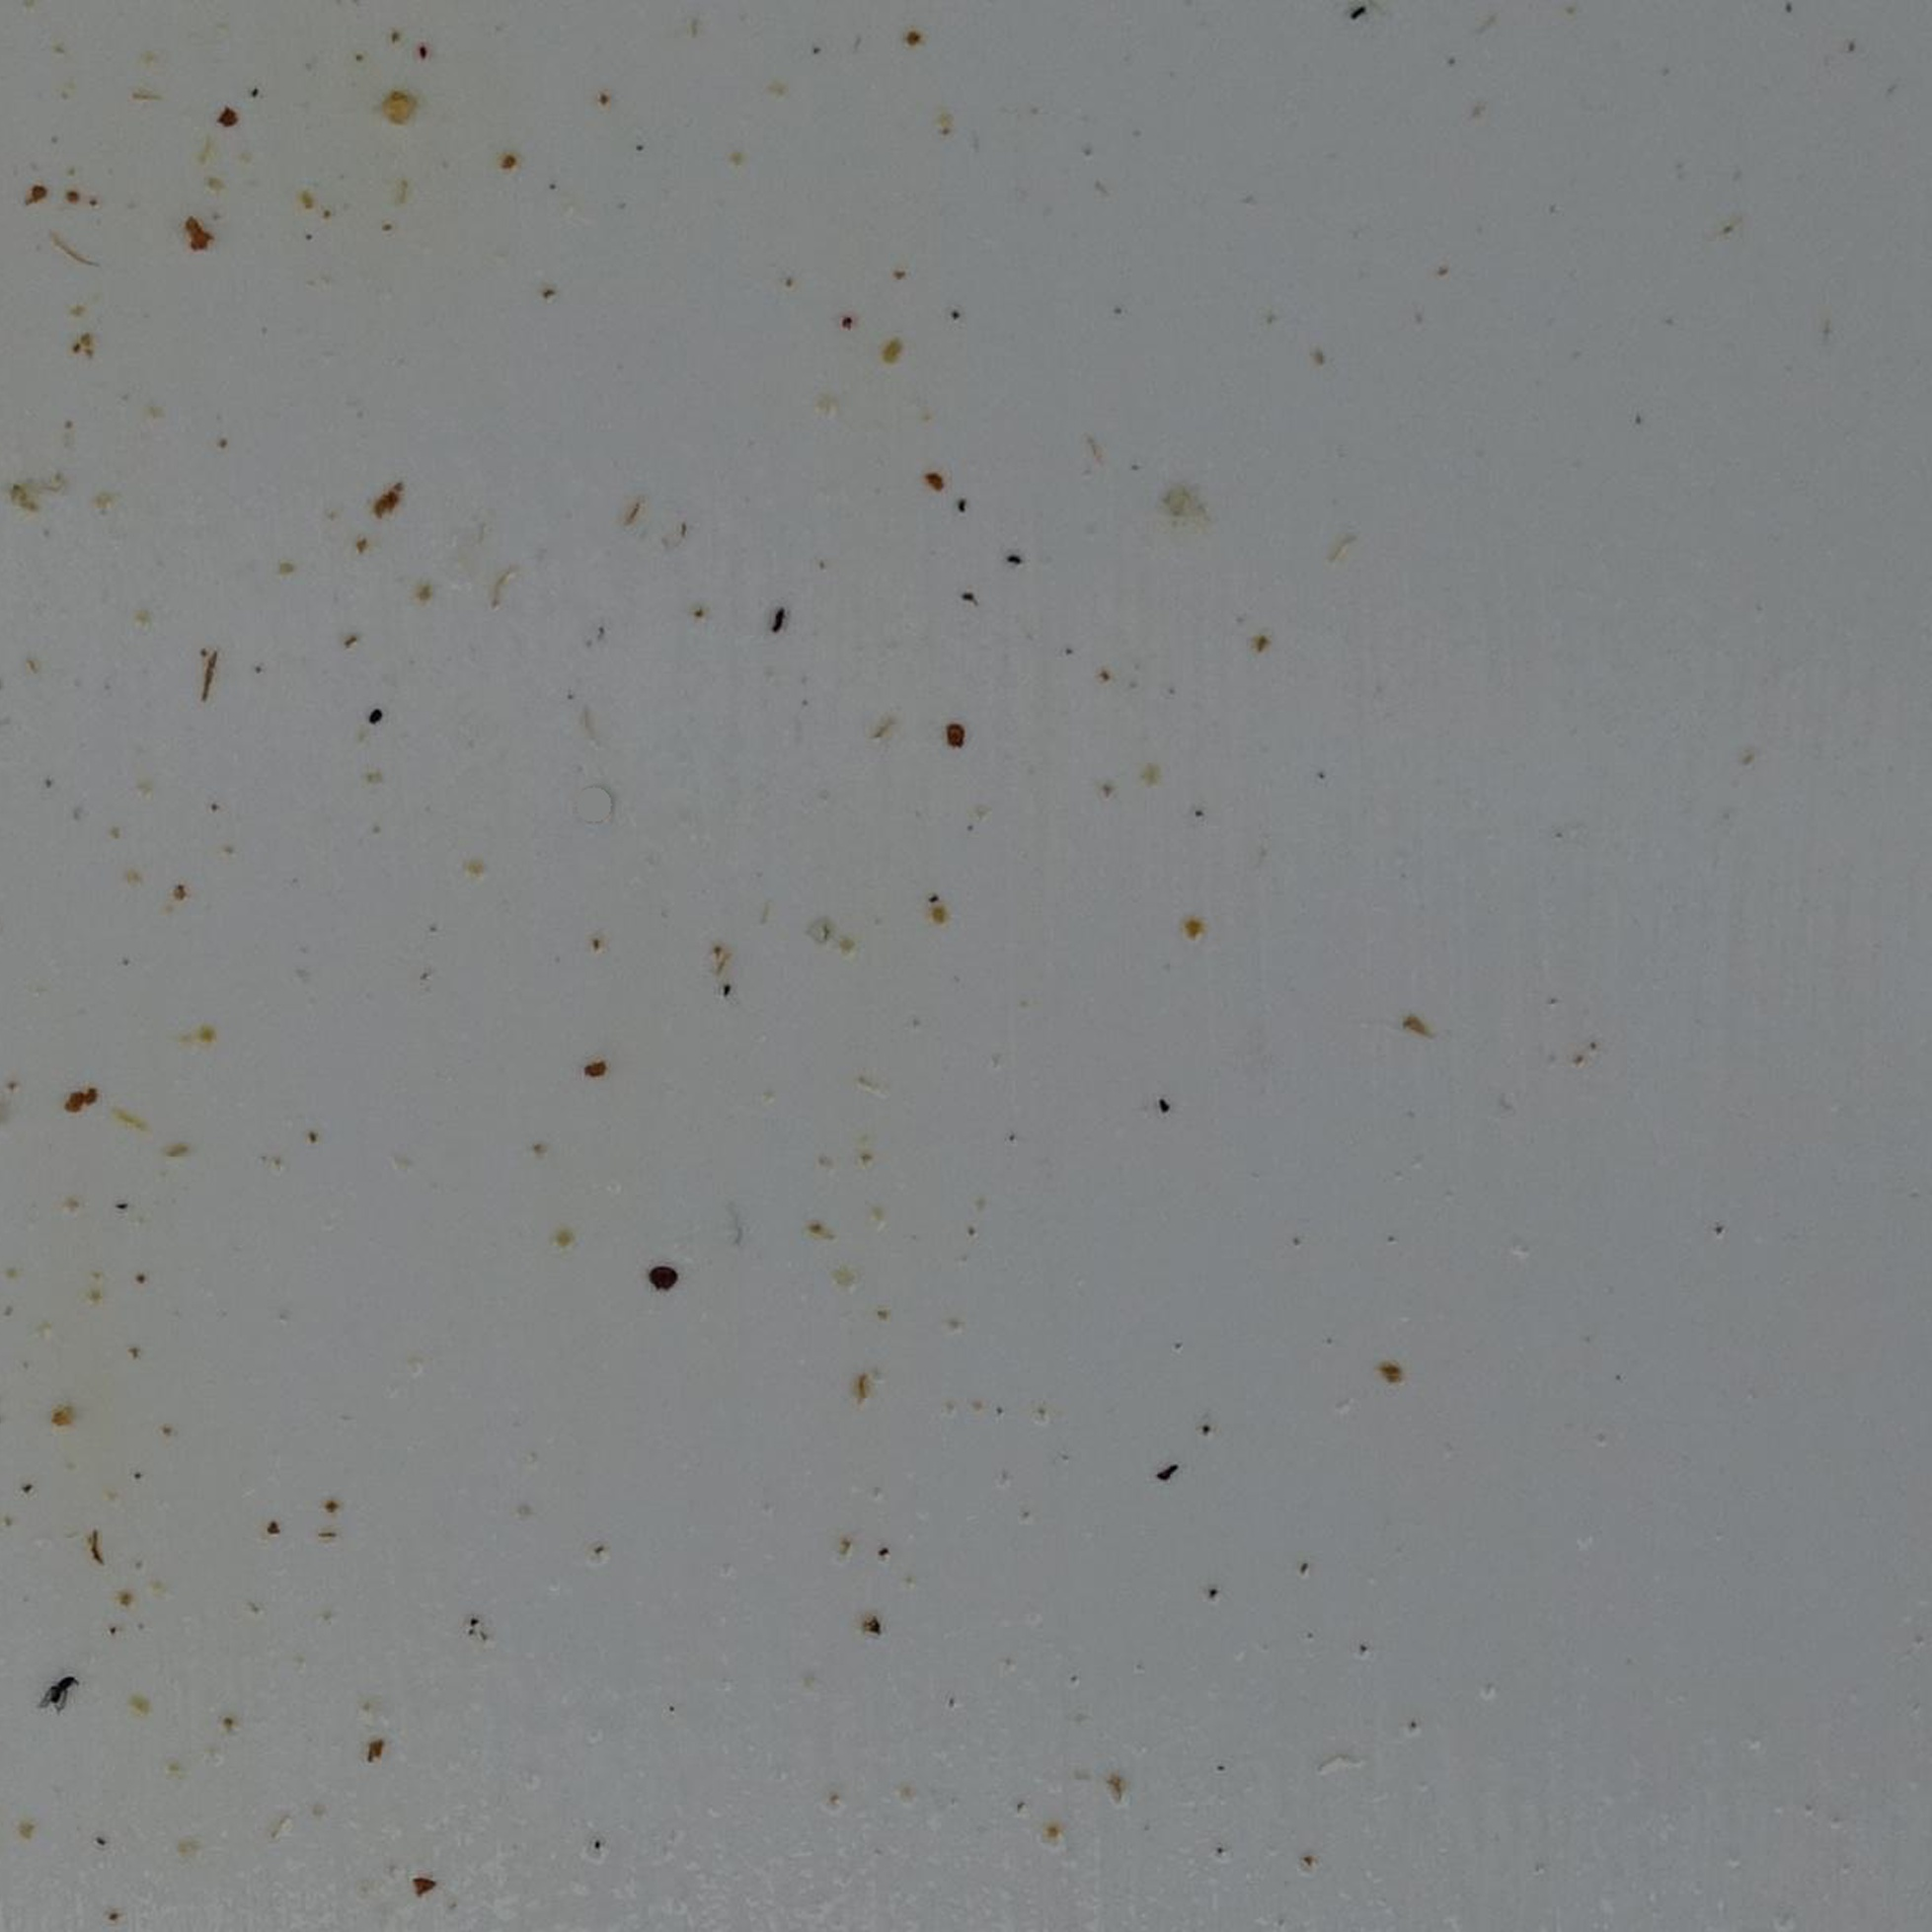Varroa: (658, 1265, 679, 1288)
